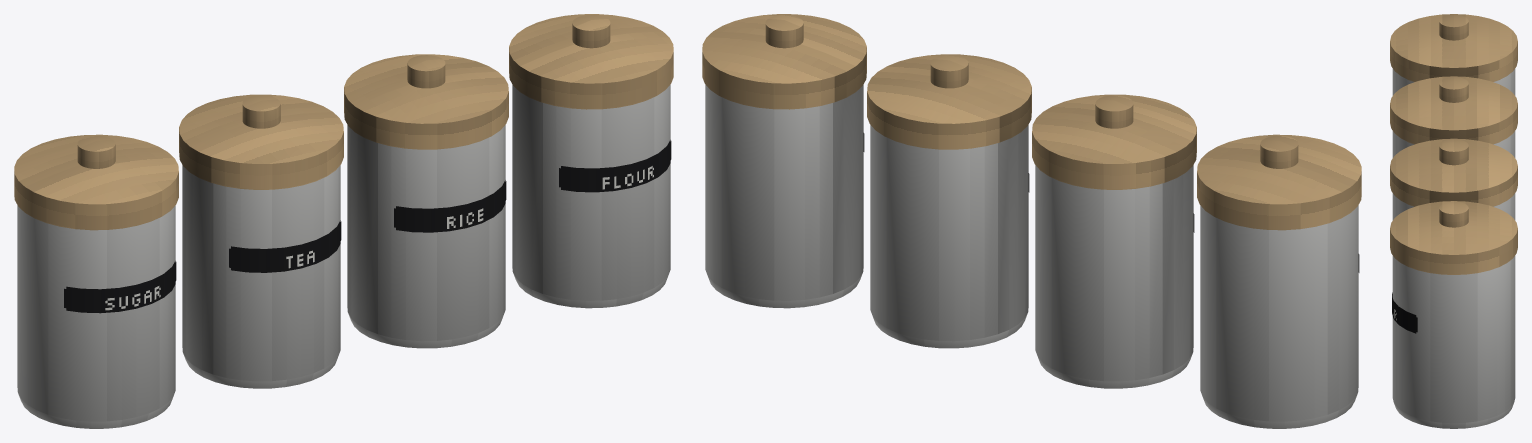
File: canisters.glb
The picture shows the model from 3 angles, left to right: view 1: azimuth 30°, elevation 25°; view 2: azimuth 150°, elevation 25°; view 3: azimuth 270°, elevation 25°; orthographic projection. The views are drawn at different scales.
Visible parts, largest first — view 1: body, panels; view 2: body; view 3: body, panels.
Boxes of the visible parts, <box> form: body: <box>14,14,673,428</box>; panels: <box>64,139,671,313</box>; body: <box>702,14,1361,428</box>; body: <box>1390,14,1517,428</box>; panels: <box>1392,292,1417,333</box>.
Size of what is drawn, in the model's own units: 0.464 by 0.178 by 0.104.
3 materials, 2 textured.
